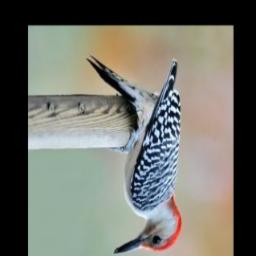Woodpecker: (79, 41, 192, 256)
